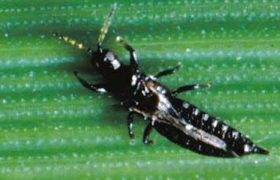Phlaeothripidae: (51, 3, 280, 158)
